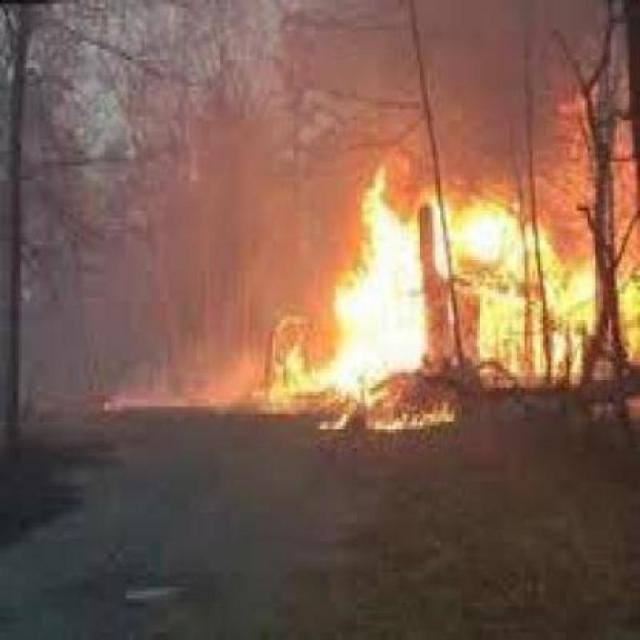Fire: (161, 184, 640, 449)
